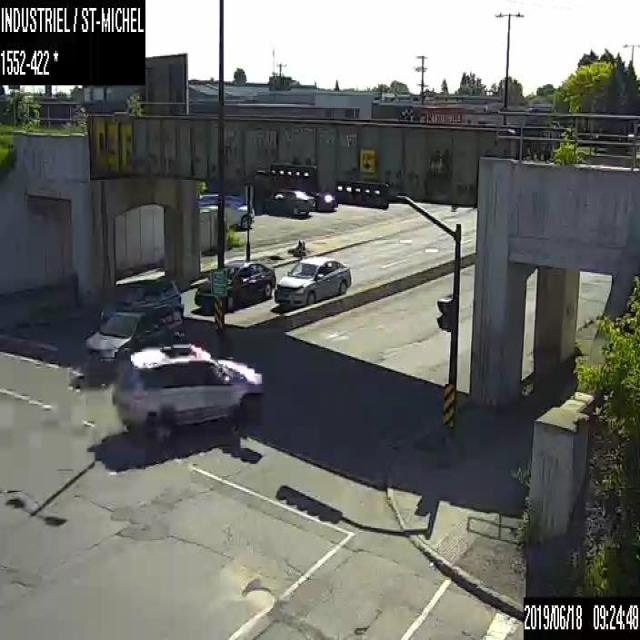vehicle: (112, 344, 264, 447), (84, 299, 184, 367), (94, 276, 180, 328), (193, 260, 275, 312), (274, 256, 350, 306), (196, 192, 254, 230), (263, 188, 315, 216), (310, 190, 337, 211)
